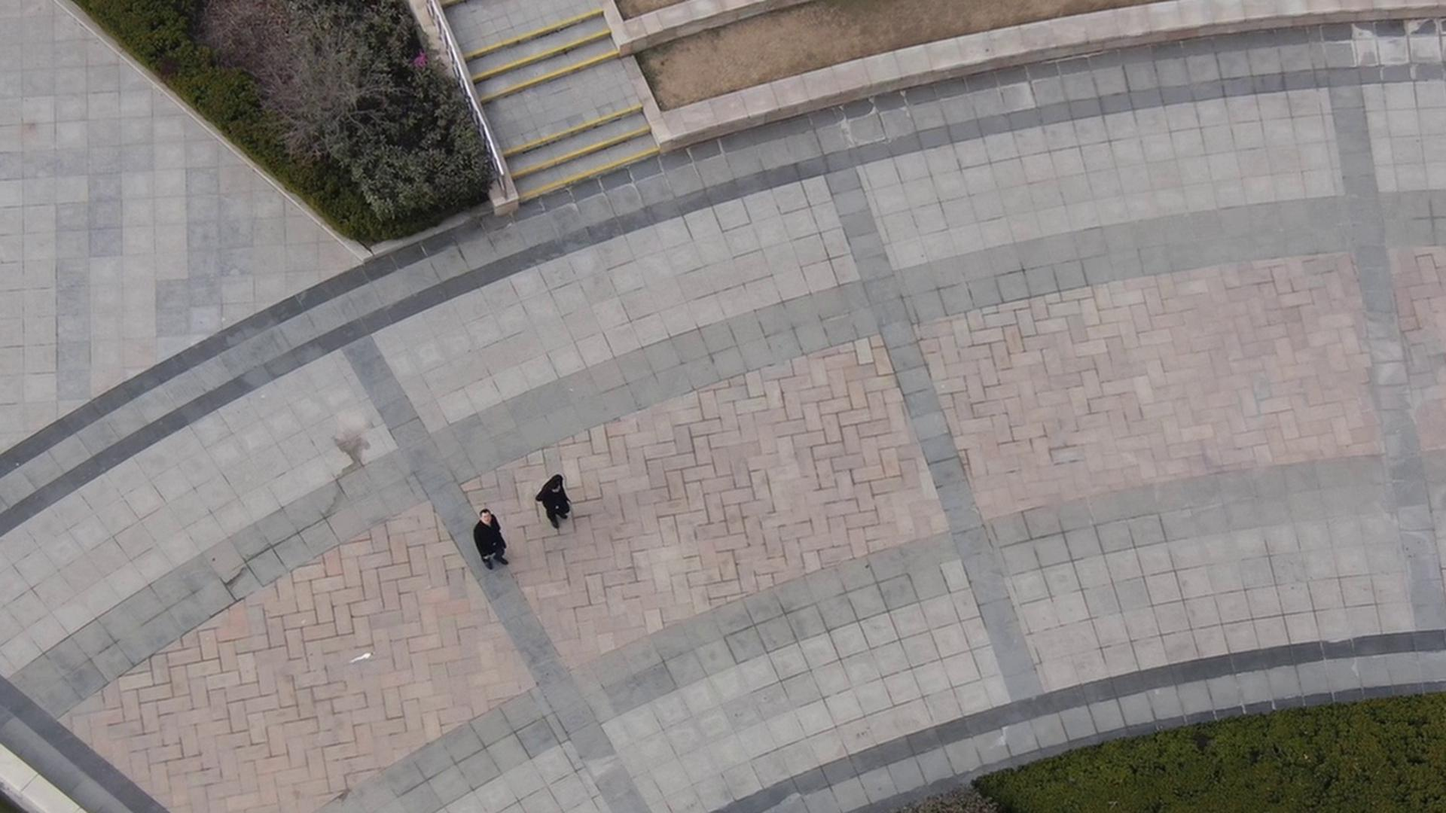human: (471, 500, 517, 572), (529, 463, 574, 529)
